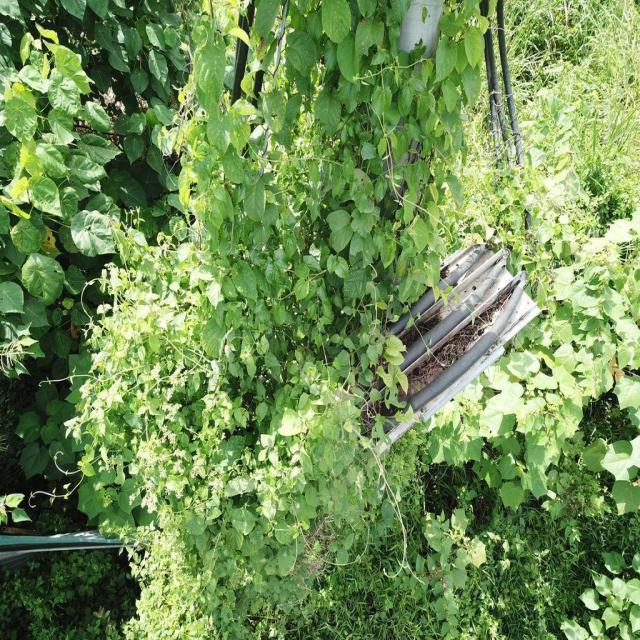critical vegetation: (190, 42, 531, 440)
